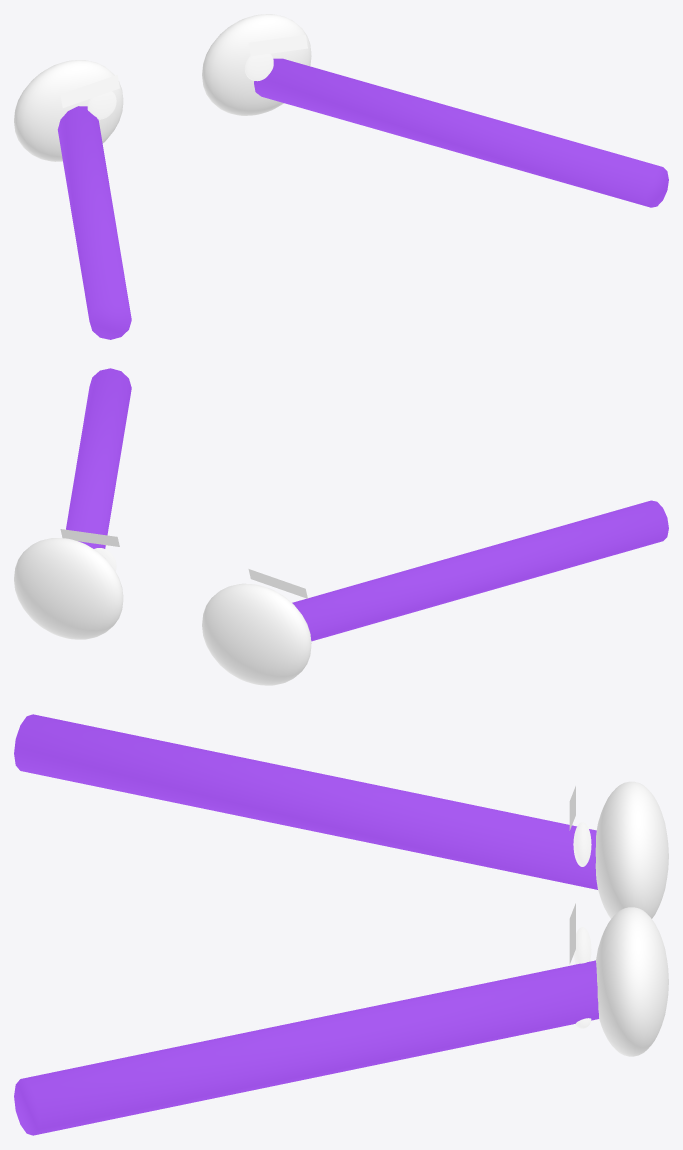
File: trait-eyes-purple-laser.glb
3 views of the same model, one above another, from view 1: azimuth 30°, elevation 25°; view 2: azimuth 150°, elevation 25°; view 3: azimuth 270°, elevation 25° (orthographic). The views are drawn at different scales.
Parts seen in each view (by area): view 1: trait_eye_beam_R, trait_eye_beam_L, trait_eye_R, trait_eye_L, trait_eye_lash_L, trait_eye_lash_R, trait_eye_glint_R, trait_eye_glint_L; view 2: trait_eye_beam_L, trait_eye_L, trait_eye_R, trait_eye_beam_R, trait_eye_lash_R, trait_eye_lash_L; view 3: trait_eye_beam_R, trait_eye_beam_L, trait_eye_R, trait_eye_L, trait_eye_glint_L.
Part boxes in pixels (bbox=[...]): trait_eye_beam_R: bbox=[254, 58, 668, 207]; trait_eye_beam_L: bbox=[57, 106, 131, 339]; trait_eye_R: bbox=[202, 14, 311, 115]; trait_eye_L: bbox=[14, 60, 123, 161]; trait_eye_lash_L: bbox=[60, 75, 119, 107]; trait_eye_lash_R: bbox=[248, 35, 307, 56]; trait_eye_glint_R: bbox=[244, 54, 273, 81]; trait_eye_glint_L: bbox=[87, 91, 116, 119]; trait_eye_beam_L: bbox=[292, 500, 668, 641]; trait_eye_L: bbox=[202, 583, 311, 685]; trait_eye_R: bbox=[14, 538, 123, 639]; trait_eye_beam_R: bbox=[66, 368, 131, 548]; trait_eye_lash_R: bbox=[60, 529, 119, 546]; trait_eye_lash_L: bbox=[248, 569, 307, 598]; trait_eye_beam_R: bbox=[14, 960, 598, 1135]; trait_eye_beam_L: bbox=[14, 714, 597, 889]; trait_eye_R: bbox=[596, 907, 668, 1056]; trait_eye_L: bbox=[595, 781, 668, 918]; trait_eye_glint_L: bbox=[573, 822, 591, 866].
Bounding box in the file's own units: 1.42 × 0.2262 × 1.01.
